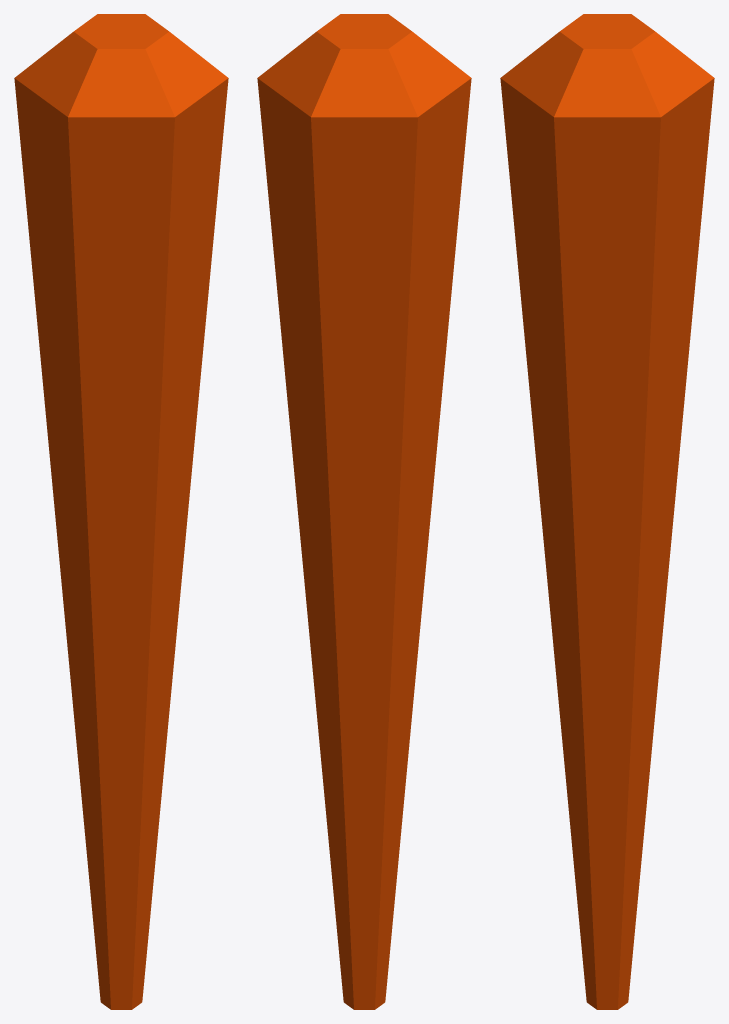
File: Carrot.fbx
The picture shows the model from 3 angles, left to right: view 1: azimuth 30°, elevation 25°; view 2: azimuth 150°, elevation 25°; view 3: azimuth 270°, elevation 25°; orthographic projection.
Visible parts, largest first — view 1: Carrot; view 2: Carrot; view 3: Carrot.
Boxes of the visible parts, box(x1,y1,x2,y2) form: Carrot: box(14, 14, 228, 1009); Carrot: box(257, 14, 471, 1009); Carrot: box(500, 14, 714, 1009).
Bounding box in the file's own units: 3.46 × 20 × 4.
1 material, 1 textured.
